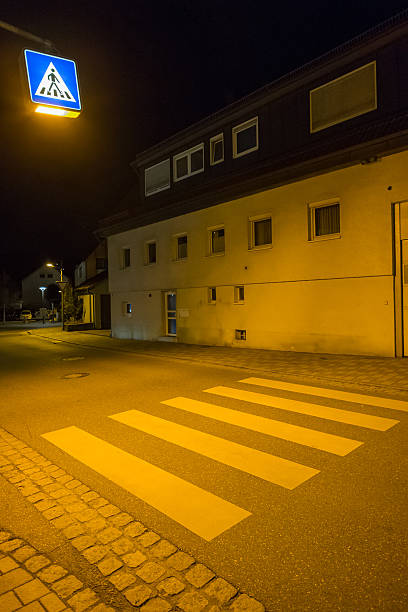yaya_gecidi: (23, 48, 87, 113)
